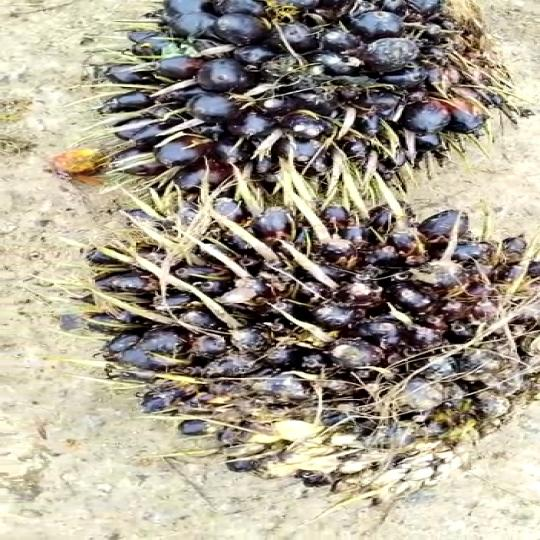mentah: (73, 199, 540, 492), (90, 0, 510, 210)
